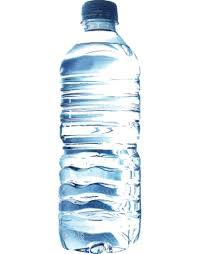available: (53, 1, 149, 253)
